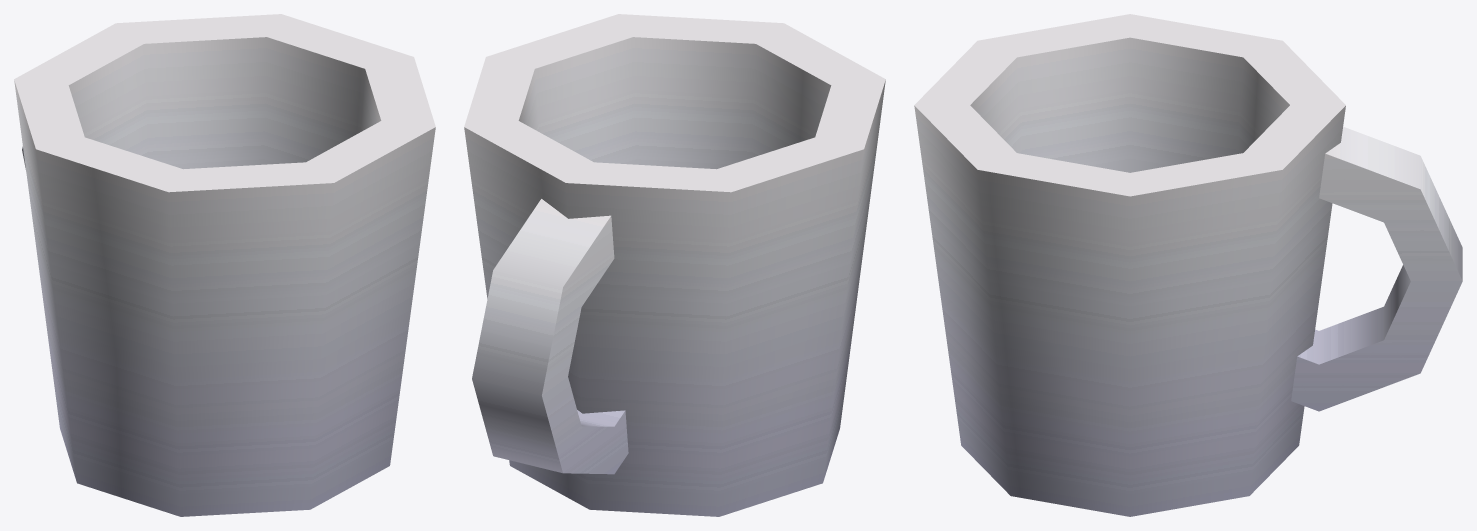
File: cup.glb
3 renders of one model, left to right at view 1: azimuth 30°, elevation 25°; view 2: azimuth 150°, elevation 25°; view 3: azimuth 270°, elevation 25°, orthographic.
Parts seen in each view (by area): view 1: cup; view 2: cup; view 3: cup.
Part boxes in pixels (left/top/right/bottom): cup: left=14, top=14, right=435, bottom=516; cup: left=464, top=14, right=885, bottom=516; cup: left=914, top=14, right=1462, bottom=516.
Bounding box in the file's own units: 0.23 × 0.2 × 0.2921.
Materials: 1 (1 with a texture image).
